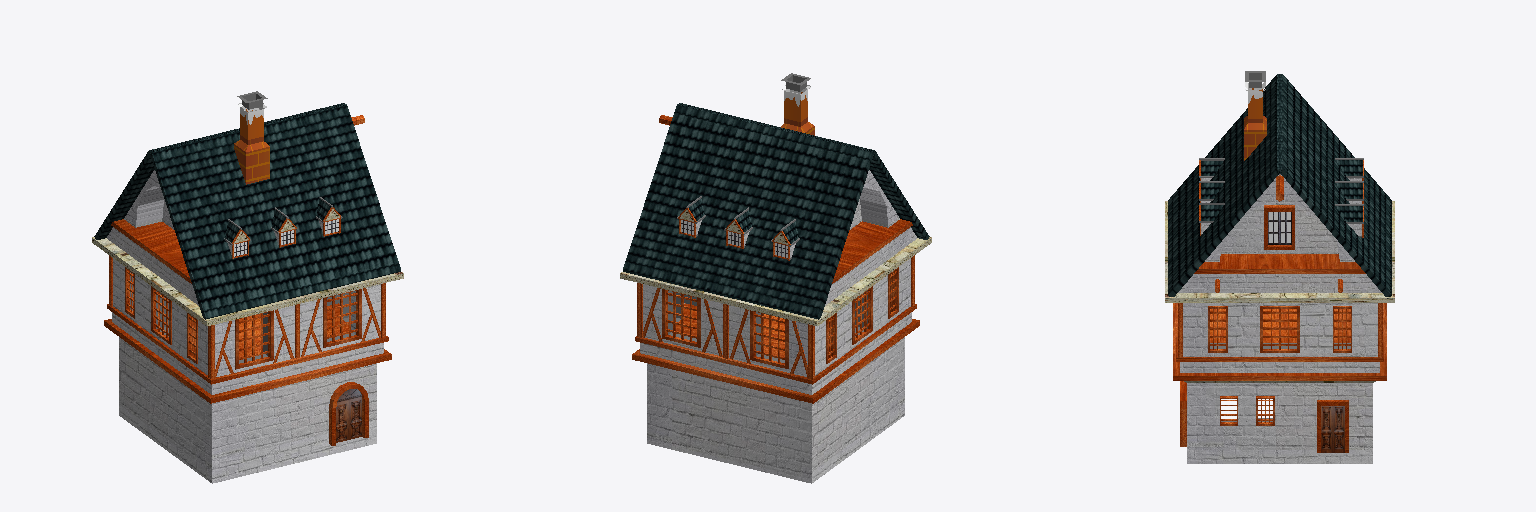
3 views of the same model, side by side, from view 1: azimuth 30°, elevation 25°; view 2: azimuth 150°, elevation 25°; view 3: azimuth 270°, elevation 25° (orthographic).
Visible parts, largest first — view 1: Object.1; view 2: Object.1; view 3: Object.1.
Part boxes in pixels (left/top/right/bottom): Object.1: left=92, top=91, right=403, bottom=483; Object.1: left=620, top=73, right=931, bottom=483; Object.1: left=1165, top=71, right=1394, bottom=463.
Bounding box in the file's own units: 19.08 × 29.34 × 17.75.
Materials: 8 (7 with a texture image).